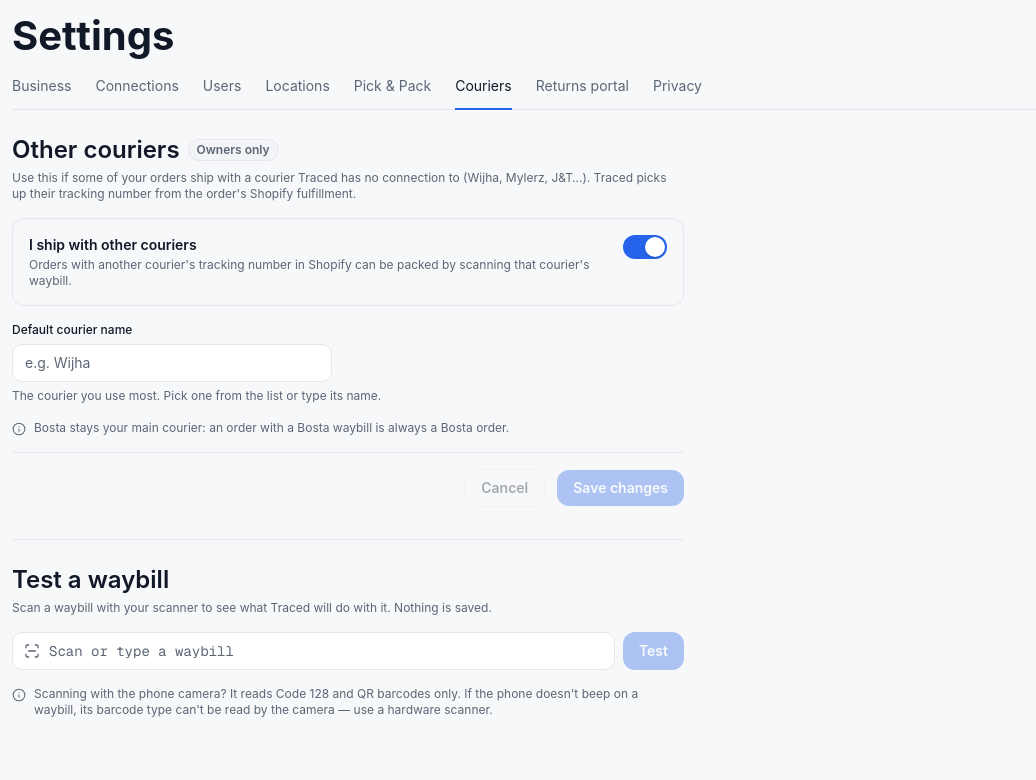
Settings › Couriers › switching off explains that existing orders stay
Click the switch named "I ship with other couriers" at (645, 247), box 623,235 -> 667,259
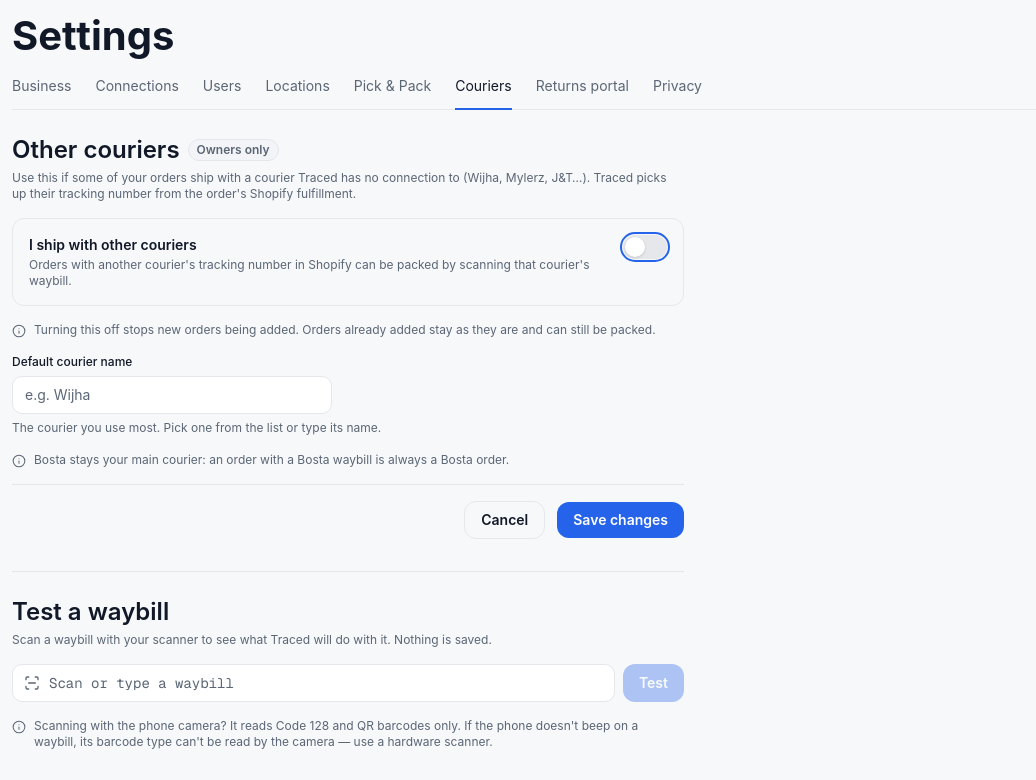
Result: the element with test id "couriers-off-note" shows "Orders already added stay as they are" at 34,322 -> 656,337
